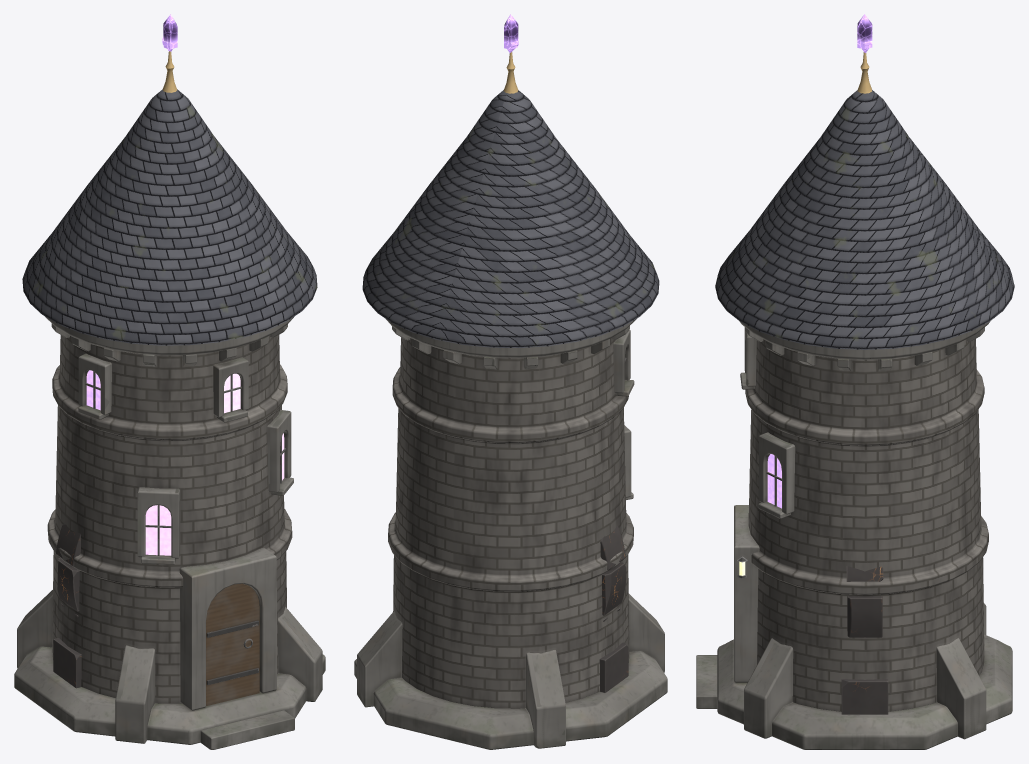
File: Emberhold.gltf
3 views of the same model, side by side, from view 1: azimuth 30°, elevation 25°; view 2: azimuth 150°, elevation 25°; view 3: azimuth 270°, elevation 25° (orthographic).
Visible parts, largest first — view 1: MageTower, CalderaGate; view 2: MageTower, CalderaGate; view 3: MageTower, CalderaGate.
Part boxes in pixels (left/top/right/bottom): MageTower: left=14, top=14, right=325, bottom=749; CalderaGate: left=53, top=524, right=81, bottom=688; MageTower: left=354, top=14, right=667, bottom=749; CalderaGate: left=599, top=525, right=628, bottom=692; MageTower: left=696, top=14, right=1014, bottom=749; CalderaGate: left=841, top=566, right=888, bottom=714.
Size of the model in its own units: 3.96 by 9.86 by 4.21.
Materials: 13 (13 with a texture image).
